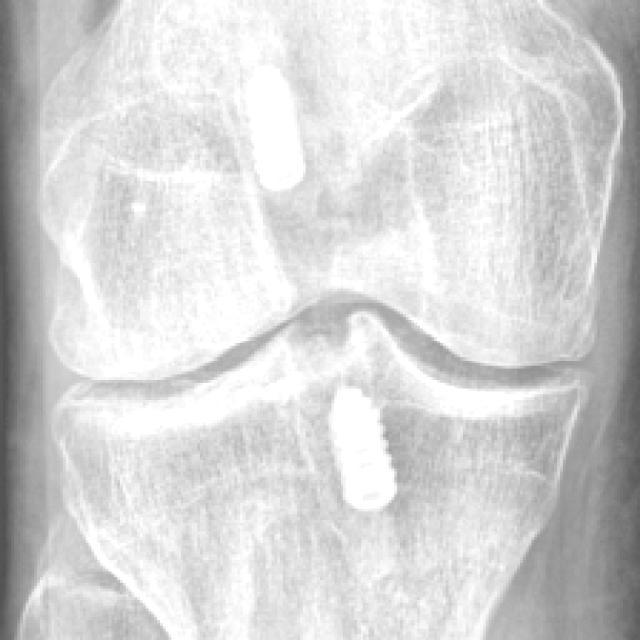femur: (37, 0, 626, 382)
tibia: (49, 309, 596, 640)
